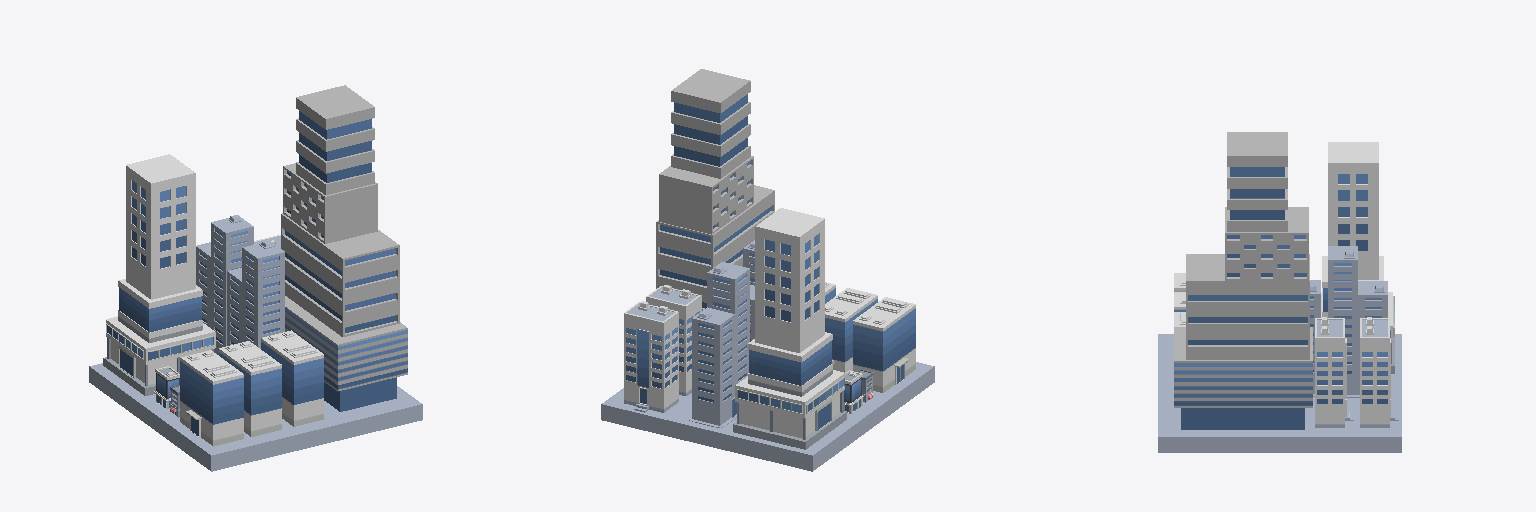
3 renders of one model, left to right at view 1: azimuth 30°, elevation 25°; view 2: azimuth 150°, elevation 25°; view 3: azimuth 270°, elevation 25°, orthographic.
Visible parts, largest first — view 1: Object129; view 2: Object129; view 3: Object129.
Boxes of the visible parts, x1=… form: Object129: x1=89, y1=85, x2=422, y2=471; Object129: x1=601, y1=69, x2=934, y2=471; Object129: x1=1158, y1=132, x2=1401, y2=452.
Size of the model in its own units: 2252 by 2962 by 2252.
1 materials, 1 textured.